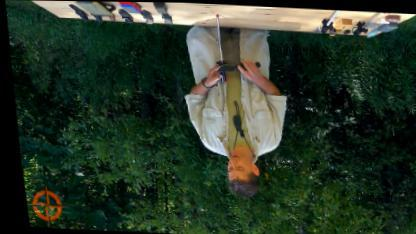knife: (212, 58, 260, 74)
